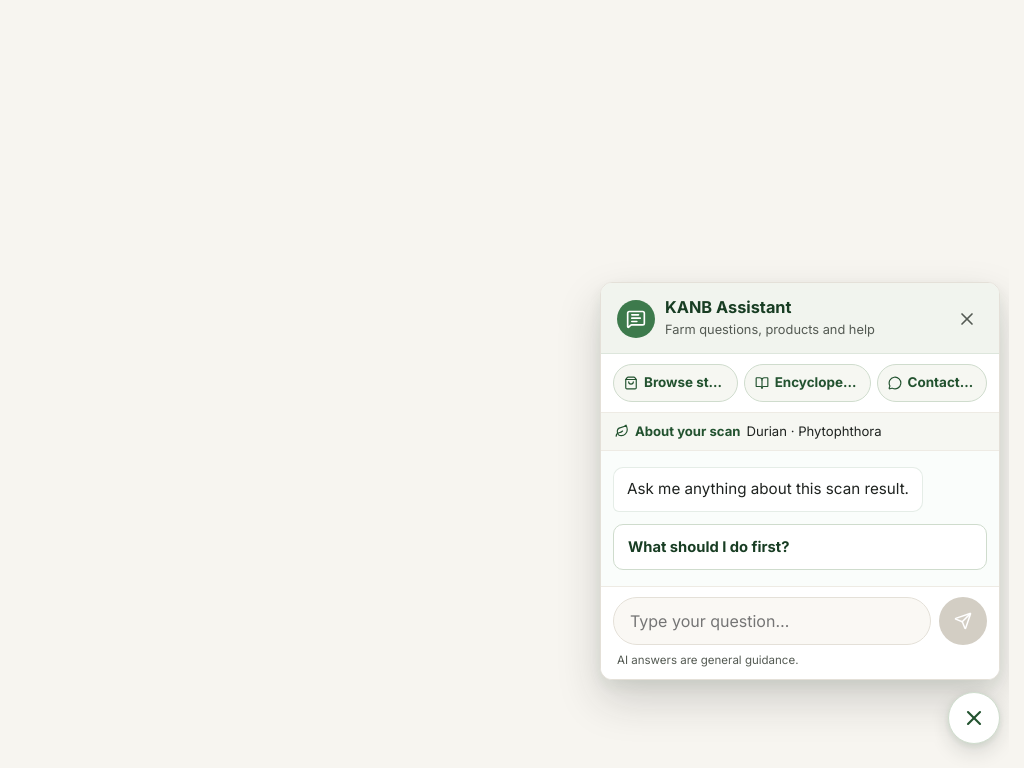
Test: AssistantWidget › keeps the scan for the conversation and starts over for a different scan
This screenshot has width=1024, height=768.
Type "Is it serious?" into the field.
click(772, 621); type("Is it serious?")  # box [613,597,931,645]
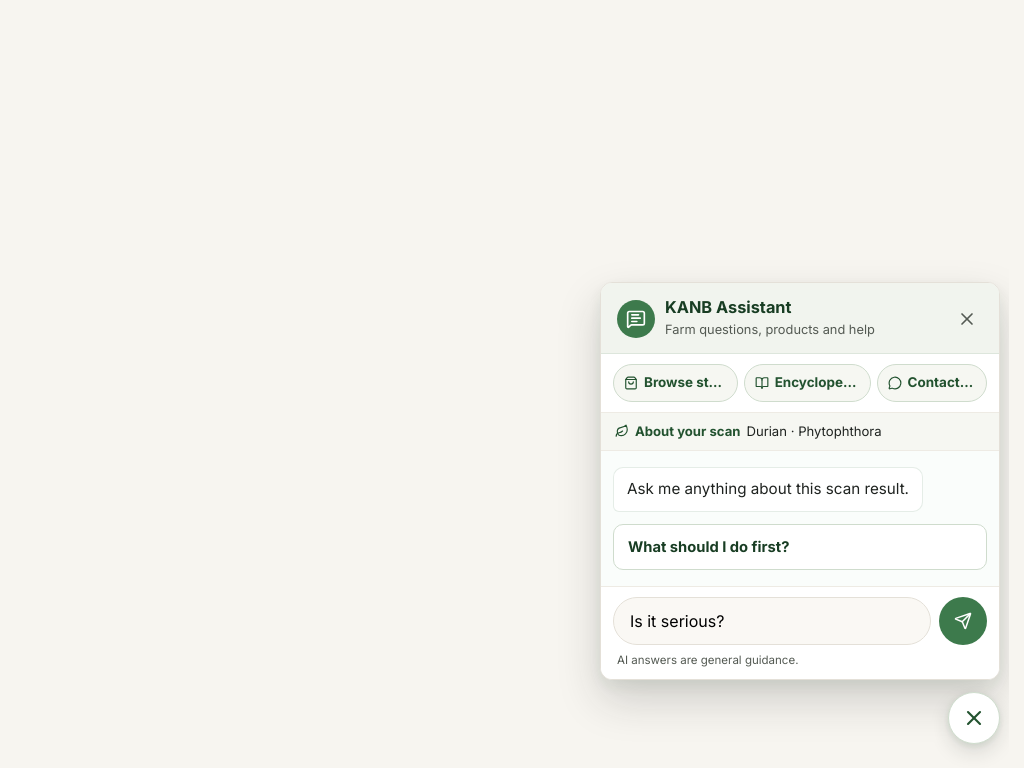
Click the button named "Send".
click(963, 621)  # box [939,597,987,645]
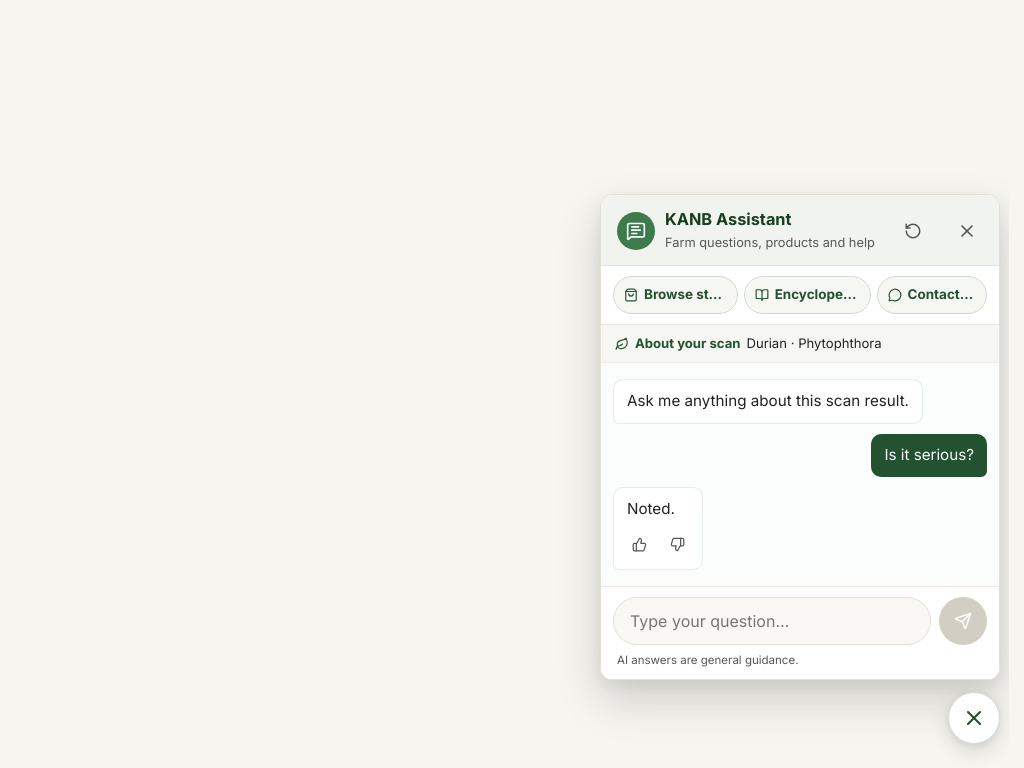
Result: the text "Noted." is shown at [627,499,675,518]
Type "And after rain?" into the field.
click(772, 621); type("And after rain?")  # box [613,597,931,645]
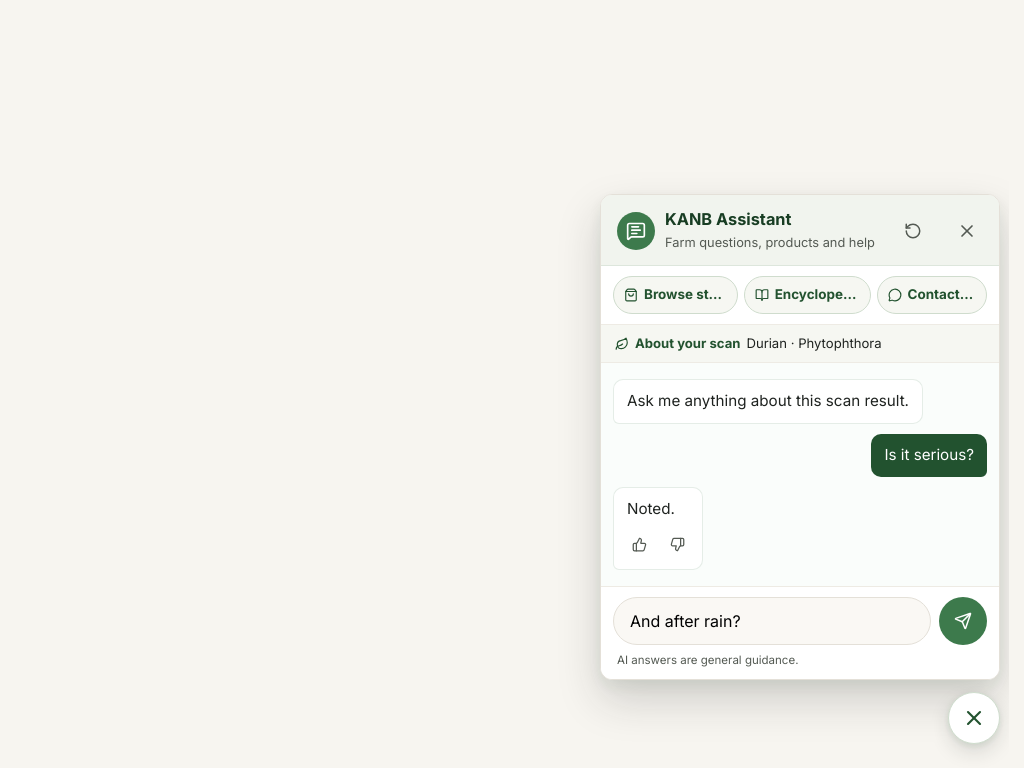
Click the button named "Send".
click(963, 621)  # box [939,597,987,645]
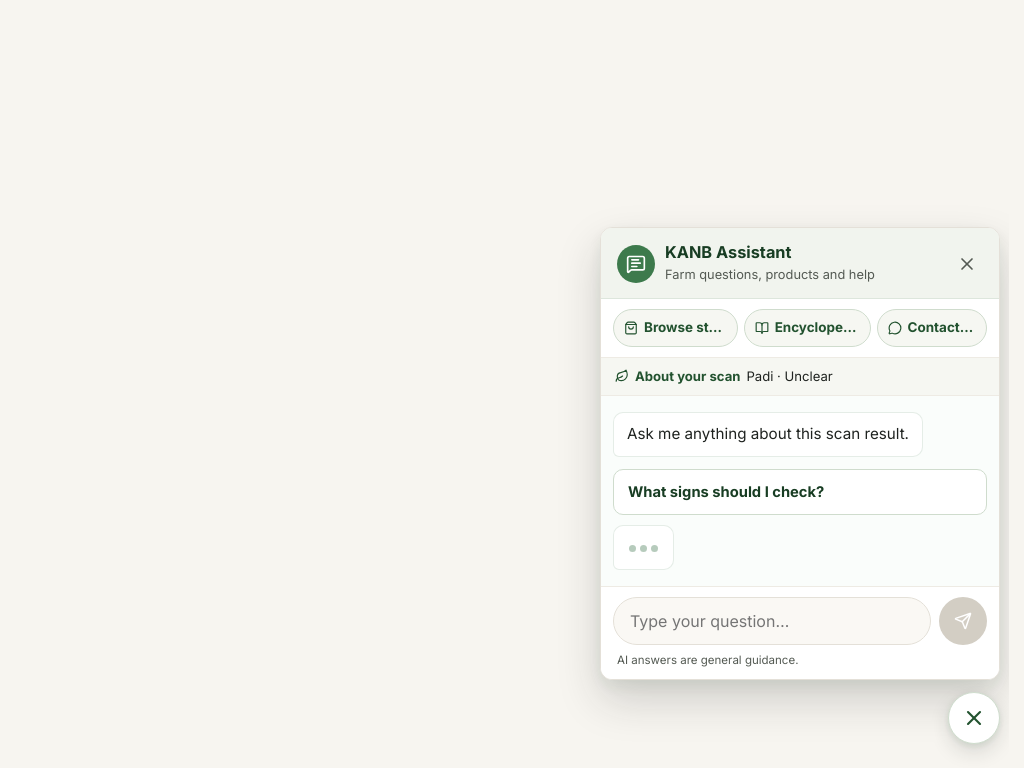
Result: the text "Noted." is gone
Result: the text "Padi · Unclear" is shown at [746,366,833,387]
Result: the button "What signs should I check?" is shown at [613,469,987,515]
